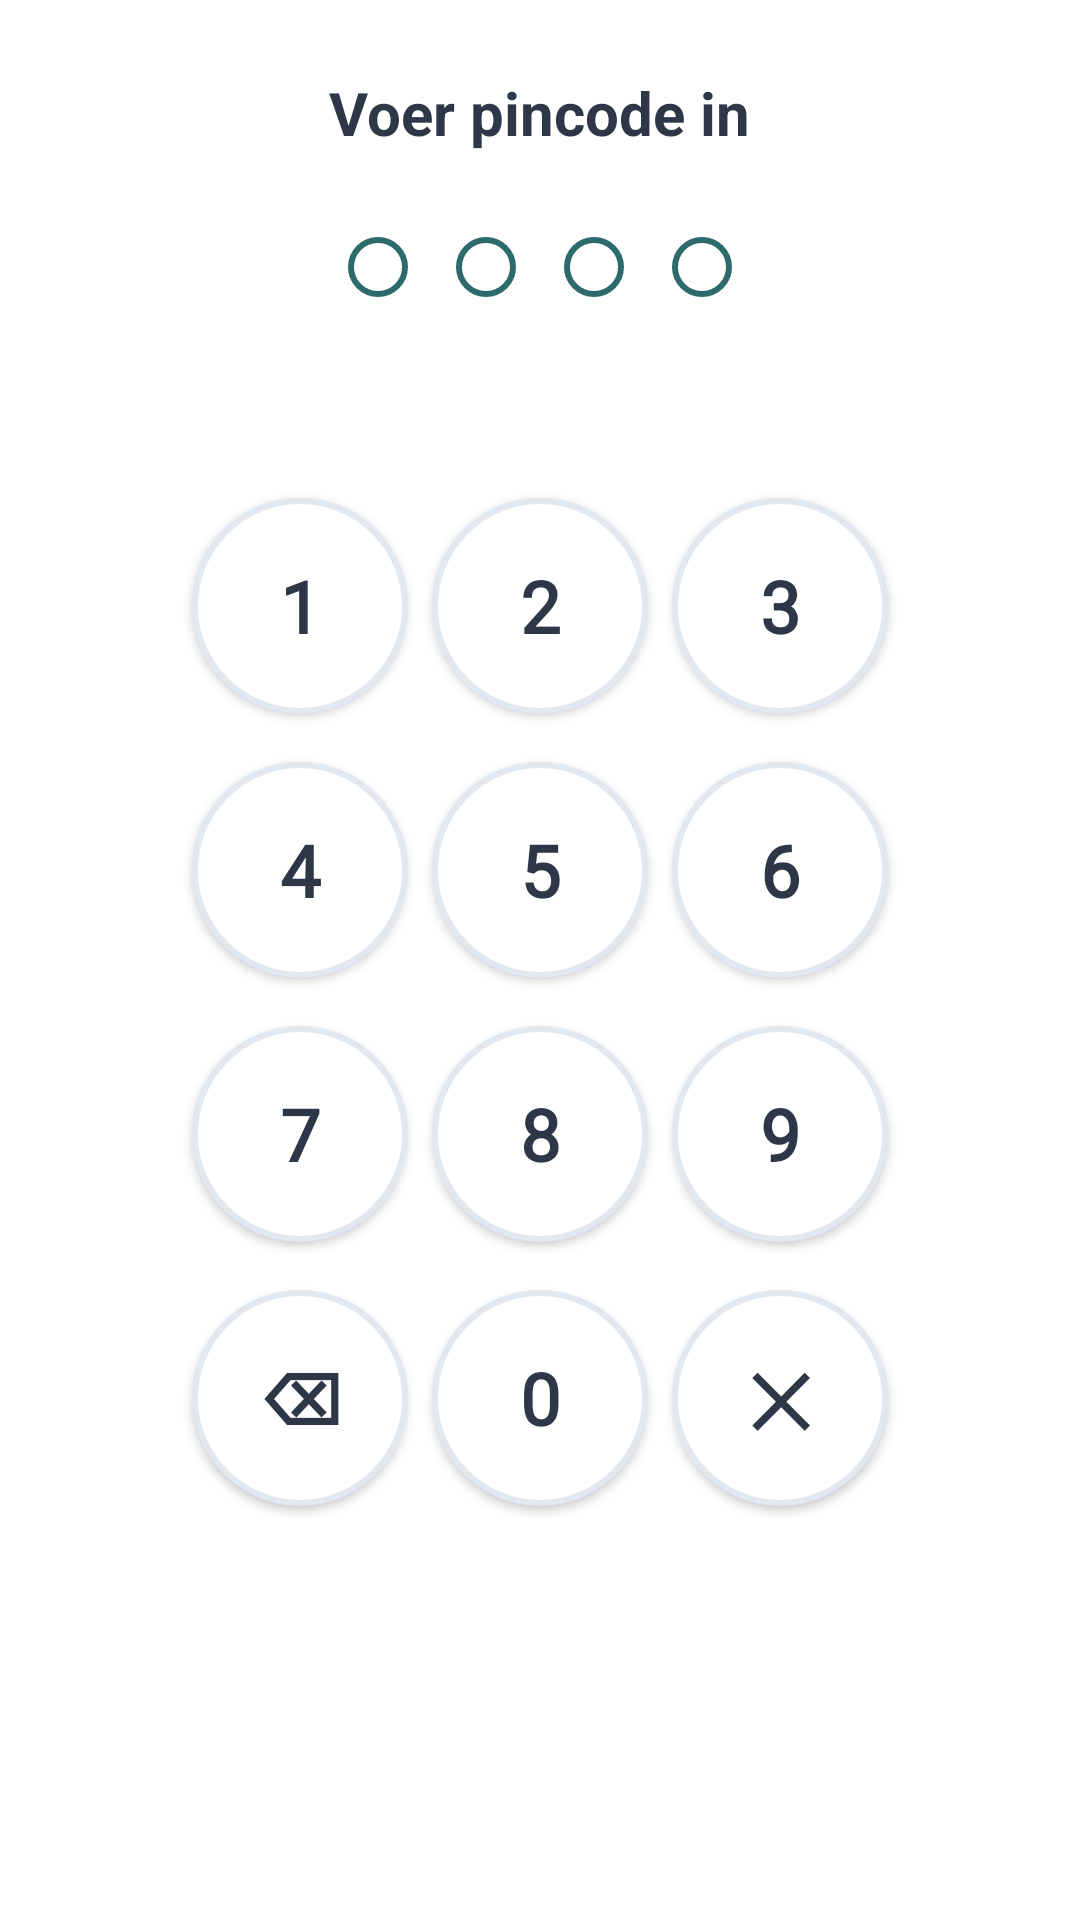

Icon click points for this 1080 x 1920 phone screenshot, format [x,y]:
pin dot empty: [378,267], [486,267], [594,267], [702,267]
